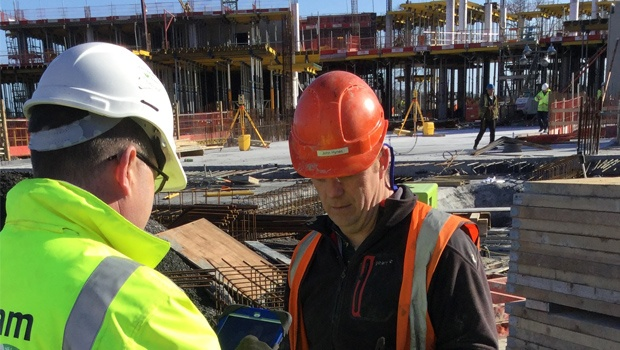blue: (485, 82, 495, 94)
red: (291, 72, 387, 232)
white: (28, 40, 177, 228), (541, 82, 549, 92)
